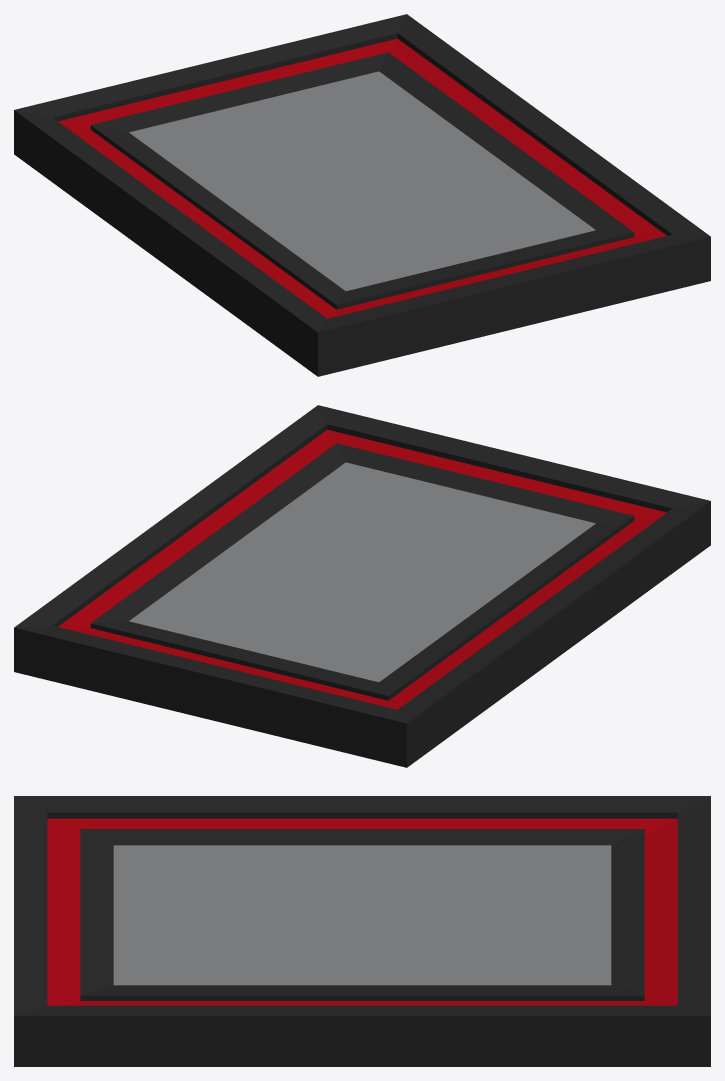
File: QA02-Test3StaticQuadMagnet.fbx
3 views of the same model, one above another, from view 1: azimuth 30°, elevation 25°; view 2: azimuth 150°, elevation 25°; view 3: azimuth 270°, elevation 25° (orthographic). The views are drawn at different scales.
Parts seen in each view (by area): view 1: StaticQuadracticMagnet; view 2: StaticQuadracticMagnet; view 3: StaticQuadracticMagnet.
Boxes of the visible parts, bbox=[...] form: StaticQuadracticMagnet: bbox=[14, 14, 710, 376]; StaticQuadracticMagnet: bbox=[14, 405, 710, 767]; StaticQuadracticMagnet: bbox=[14, 796, 710, 1066].
Bounding box in the file's own units: 2.1 × 0.227 × 2.82.
